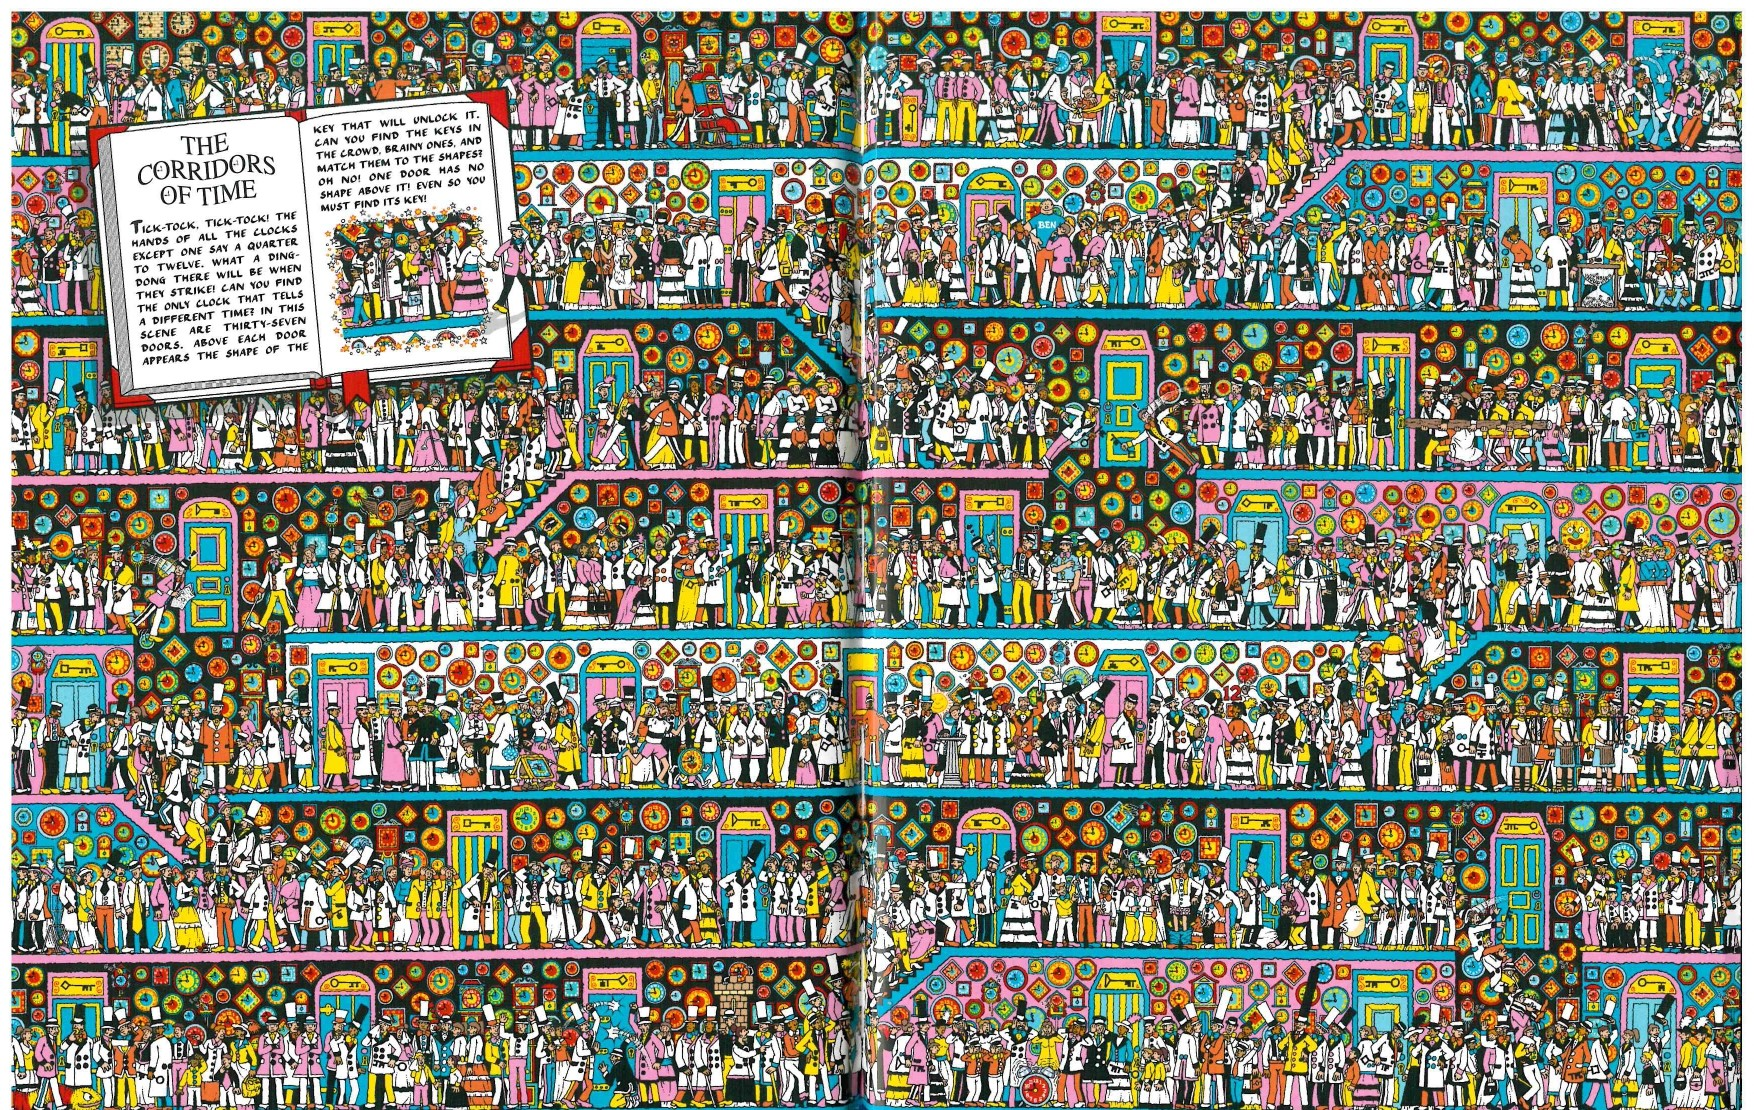waldos: (905, 531, 920, 578)
